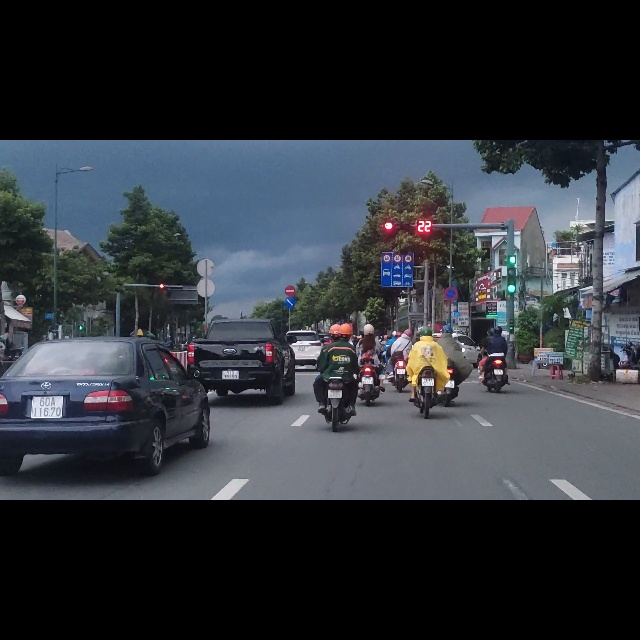bien_cam: (381, 219, 413, 261), (443, 261, 458, 286), (285, 258, 296, 278), (285, 280, 295, 298), (404, 203, 413, 217), (383, 202, 391, 217), (393, 203, 401, 218)
